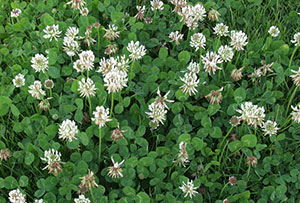clover: (2, 4, 296, 202)
